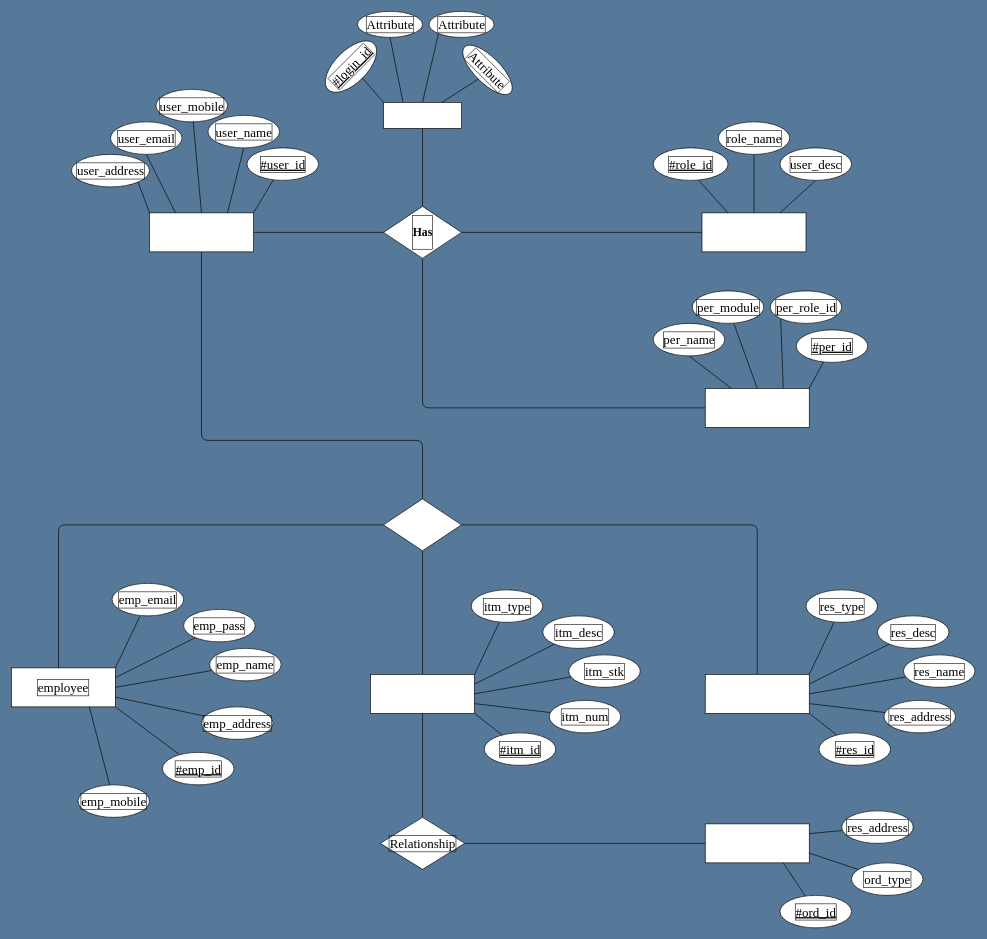
Image size: 987x939. Some labels were removed from this diagram. Each missing label, with the centre of its shape:
"Items" goes at pixel 422 693.
"Login" goes at pixel 422 115.
"Manage" goes at pixel 422 524.
"order" goes at pixel 757 843.
"Permission" goes at pixel 757 407.
"Restaurant" goes at pixel 757 693.
"Roles" goes at pixel 753 232.
"User" goes at pixel 201 232.
